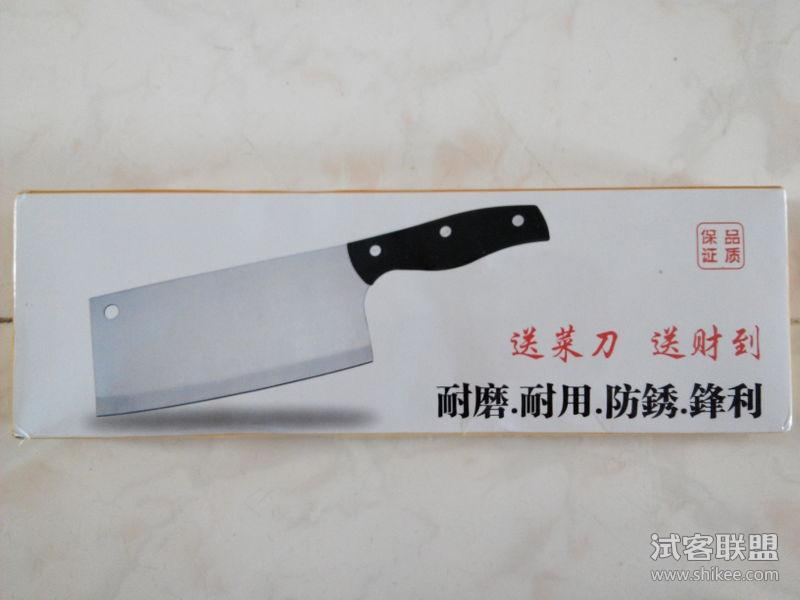knief: (71, 203, 542, 418)
